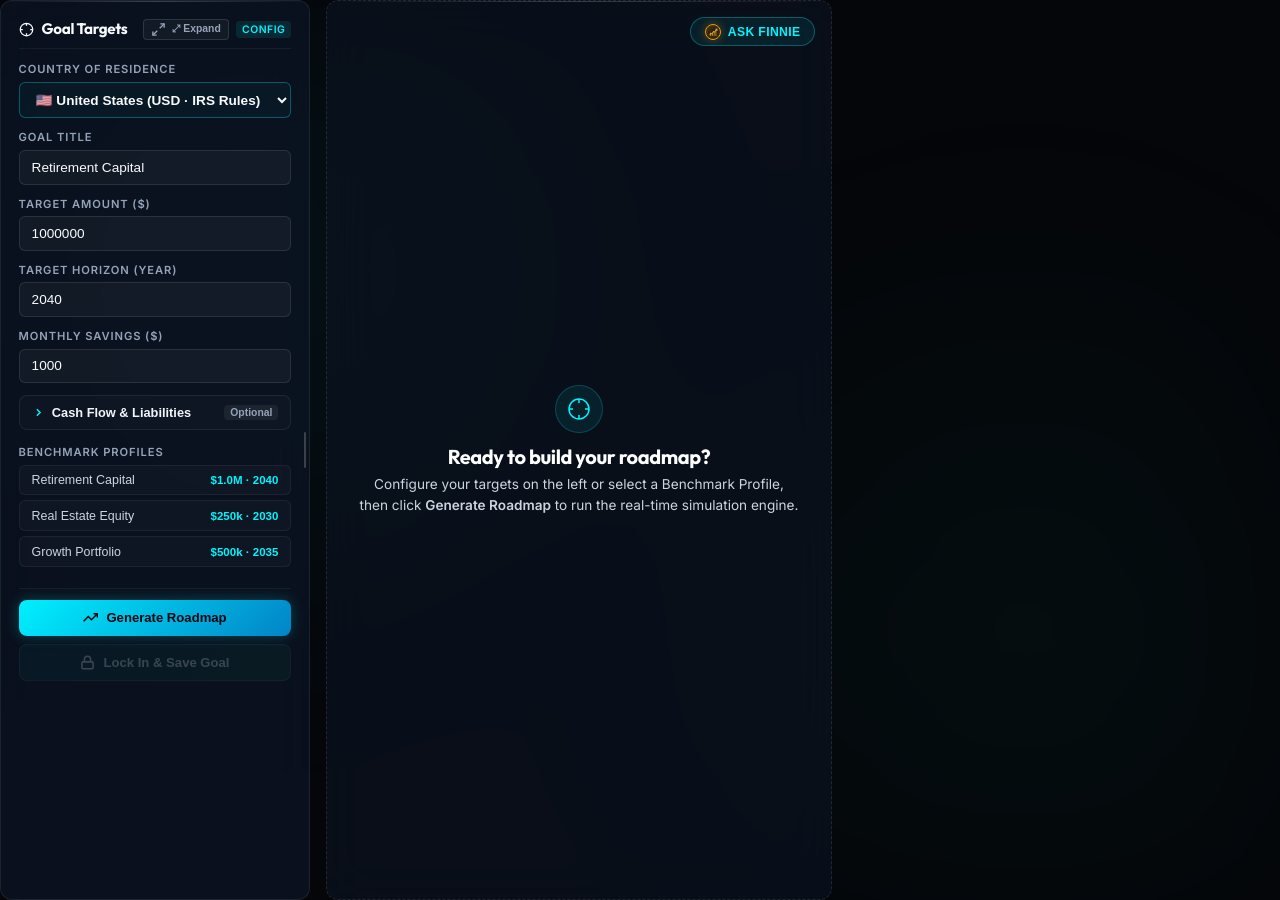
it: GoalPlannerFlow Integration Tests › opens StrategyLockInModal on Lock In button click
The image size is (1280, 900).
Click the button "Generate Roadmap" at coordinates (155, 618), box [19,600,291,636]
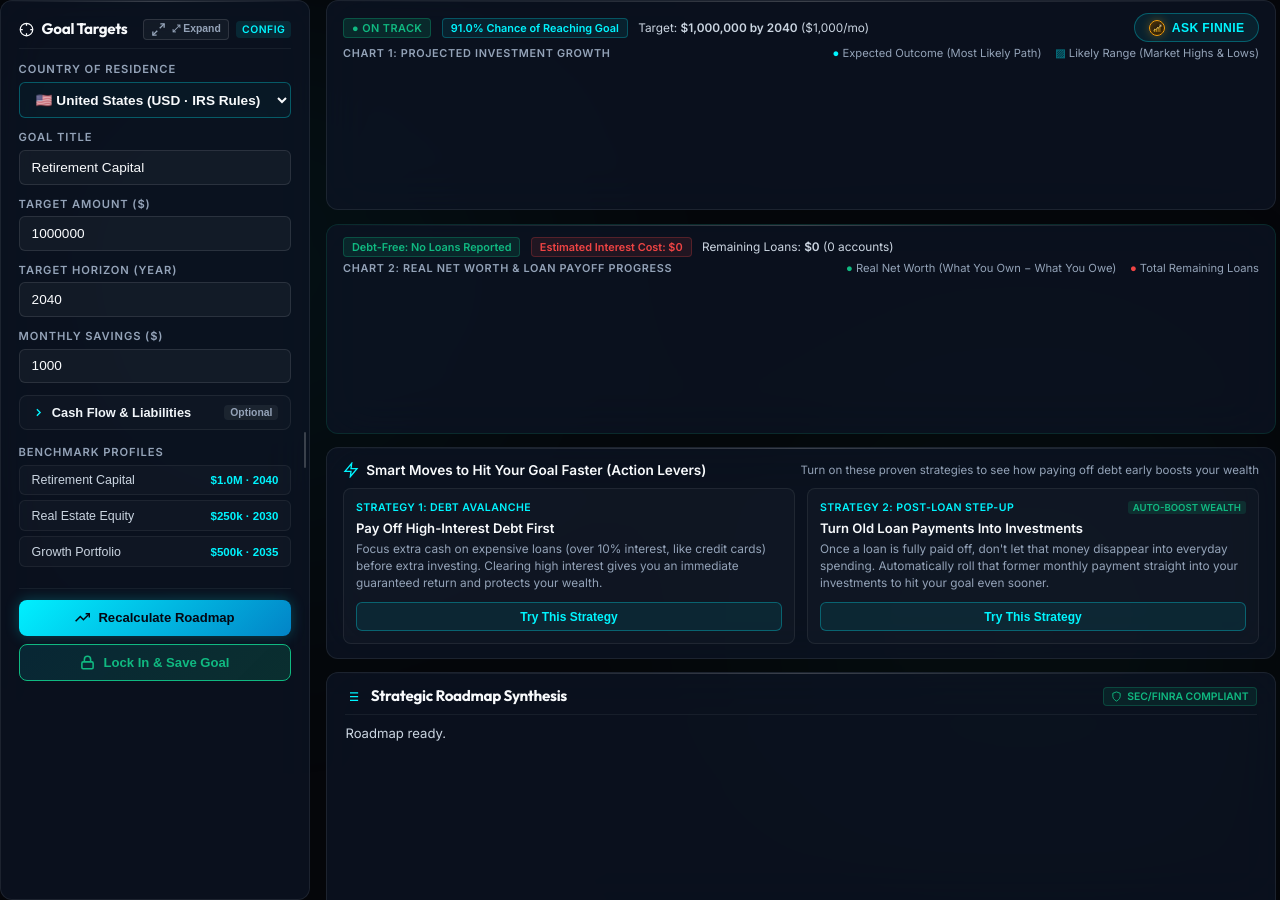
Click the button "Lock In & Save Goal" at coordinates (155, 662), box [19,644,291,681]
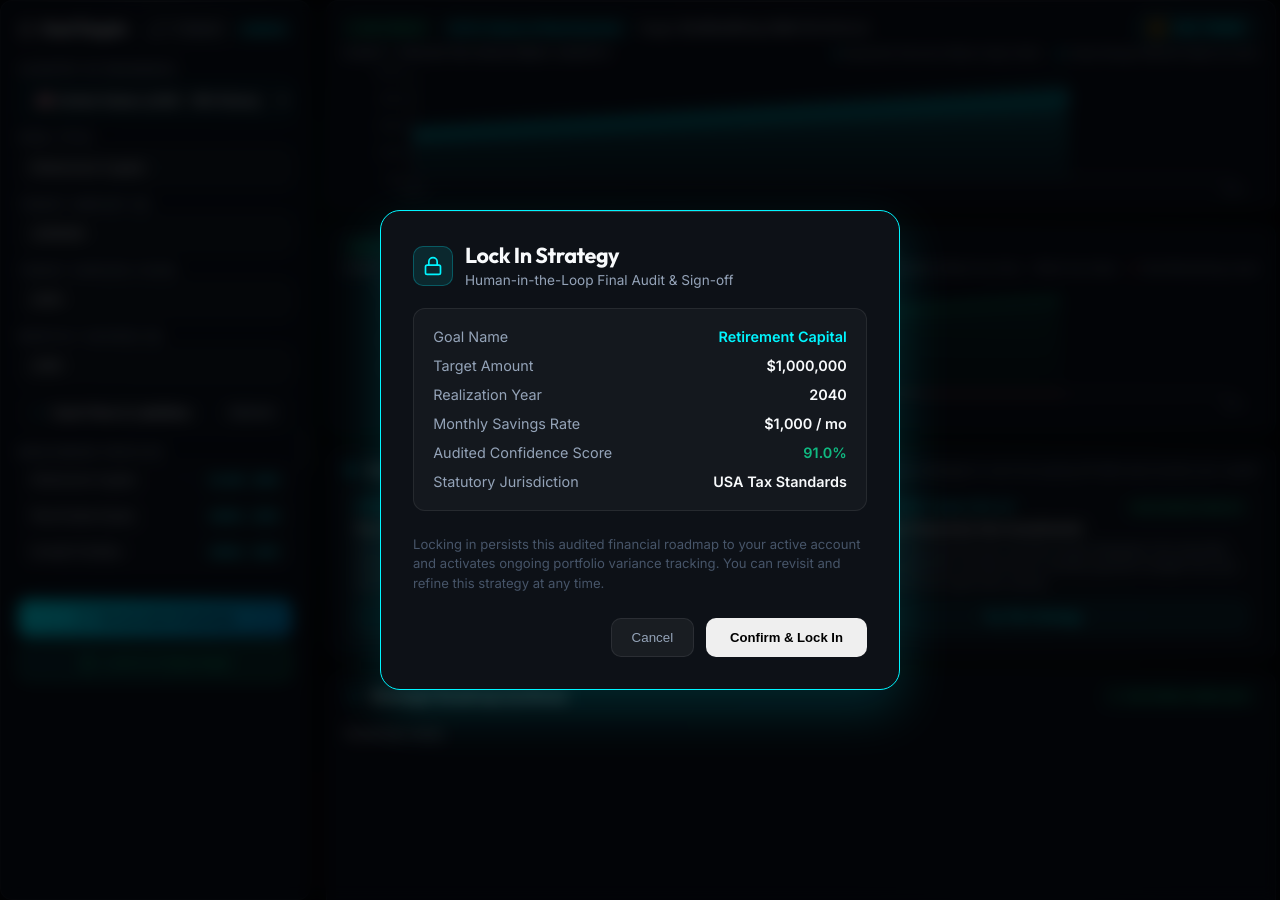
Result: the text "Human-in-the-Loop Final Audit & Sign-off" is shown at [465,272,734,288]
Result: the button "Confirm & Lock In" is shown at [706,618,867,657]
